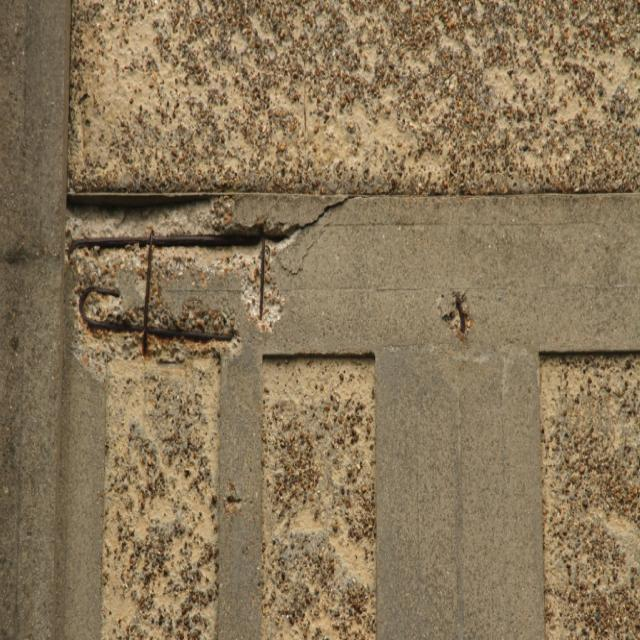Spalling: (71, 191, 311, 638)
corrosion: (78, 288, 229, 341), (74, 238, 257, 247)
